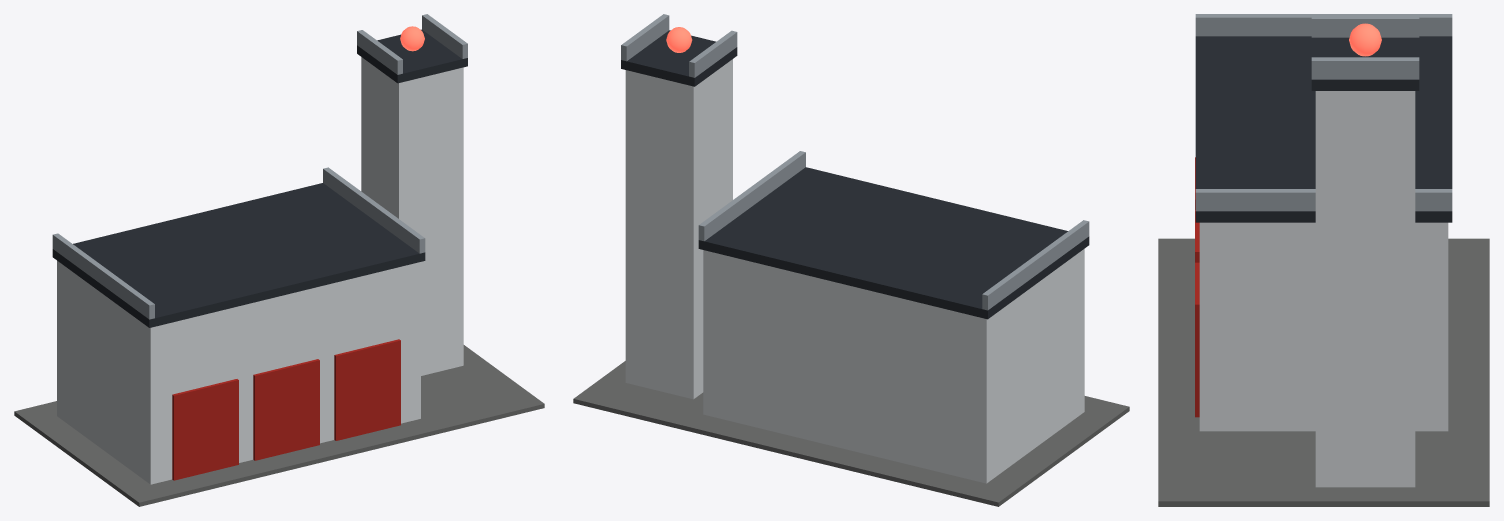
Rendered from bld_special_fire_station_a08.glb.
3 renders of one model, left to right at view 1: azimuth 30°, elevation 25°; view 2: azimuth 150°, elevation 25°; view 3: azimuth 270°, elevation 25°, orthographic. The views are drawn at different scales.
Visible parts, largest first — view 1: body; view 2: body; view 3: body.
Boxes of the visible parts, x1,y1,x2,y2 form: body: (14,14,544,506); body: (573,14,1129,506); body: (1158,14,1489,506).
Size of what is drawn, in the model's own units: 15 by 11.9 by 8.
